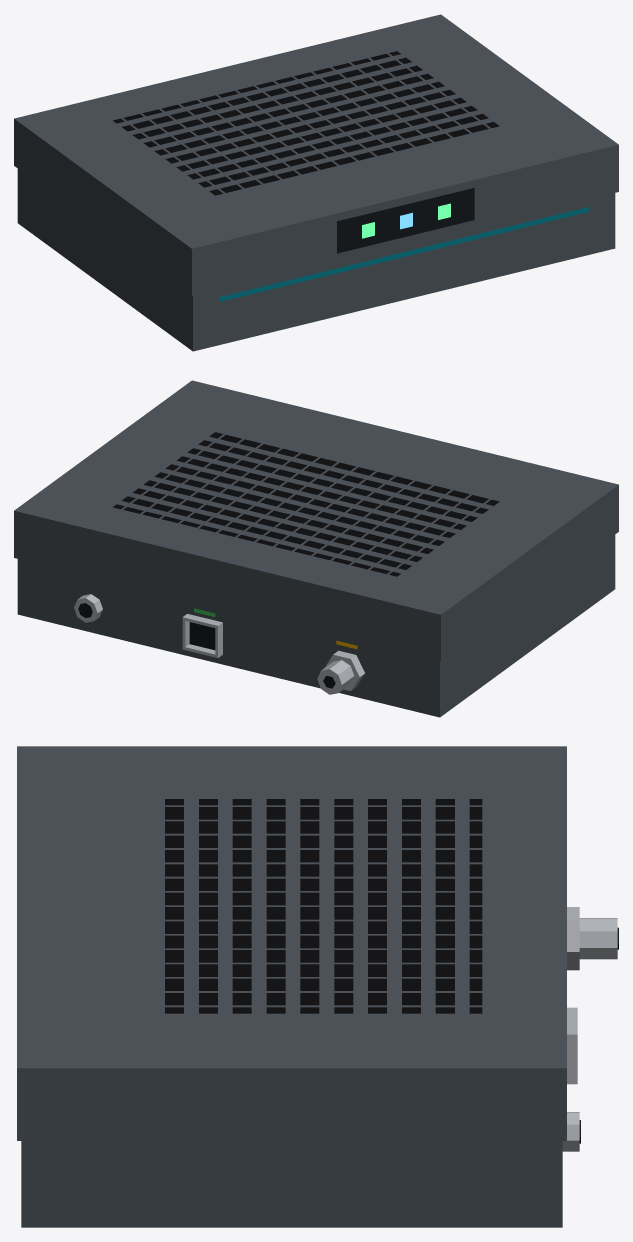
File: ISP_Modem.glb
3 renders of one model, top to bottom at view 1: azimuth 30°, elevation 25°; view 2: azimuth 150°, elevation 25°; view 3: azimuth 270°, elevation 25°, orthographic. The views are drawn at different scales.
Parts seen in each view (by area): view 1: ISP_Modem; view 2: ISP_Modem; view 3: ISP_Modem.
Boxes of the visible parts, <box> form: ISP_Modem: <box>14,14,618,351</box>; ISP_Modem: <box>14,380,618,717</box>; ISP_Modem: <box>17,746,618,1227</box>.
Bounding box in the file's own units: 0.18 × 0.0453 × 0.143.
Materials: 7 (1 with a texture image).
